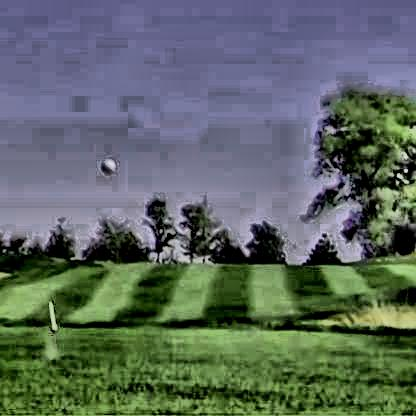golfball: (98, 155, 113, 172)
